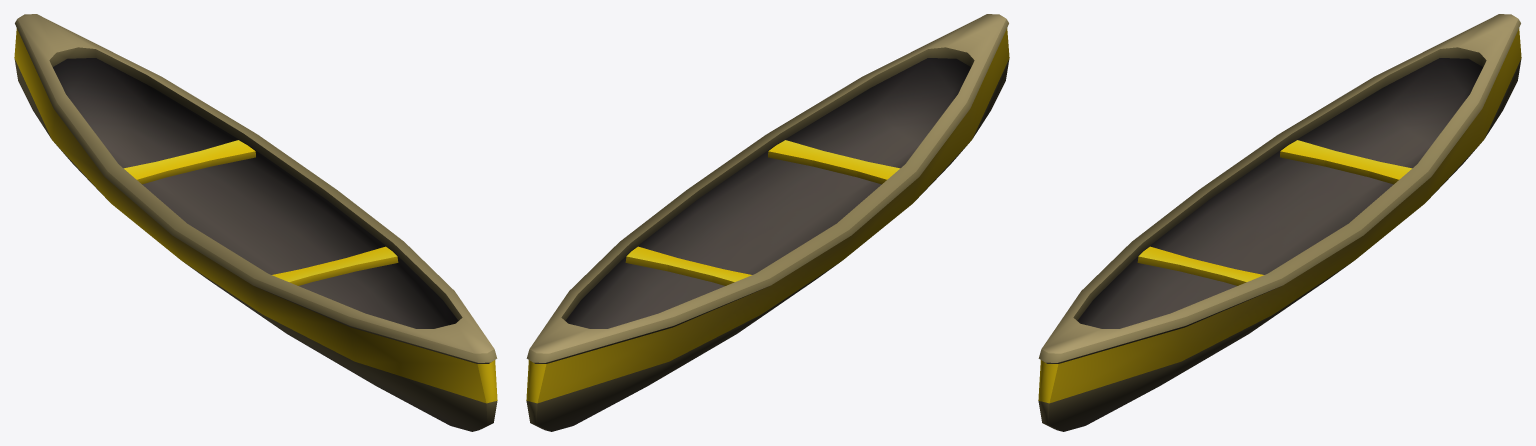
The model's file is Canoe_1C.fbx.
3 renders of one model, left to right at view 1: azimuth 30°, elevation 25°; view 2: azimuth 150°, elevation 25°; view 3: azimuth 330°, elevation 25°, orthographic.
Parts seen in each view (by area): view 1: Canoe_1C; view 2: Canoe_1C; view 3: Canoe_1C.
Part boxes in pixels (box(x1,y1,x2,y2)): Canoe_1C: box(14, 14, 497, 431); Canoe_1C: box(526, 14, 1009, 431); Canoe_1C: box(1038, 14, 1521, 431).
Size of the model in its own units: 85.06 by 47.97 by 416.
